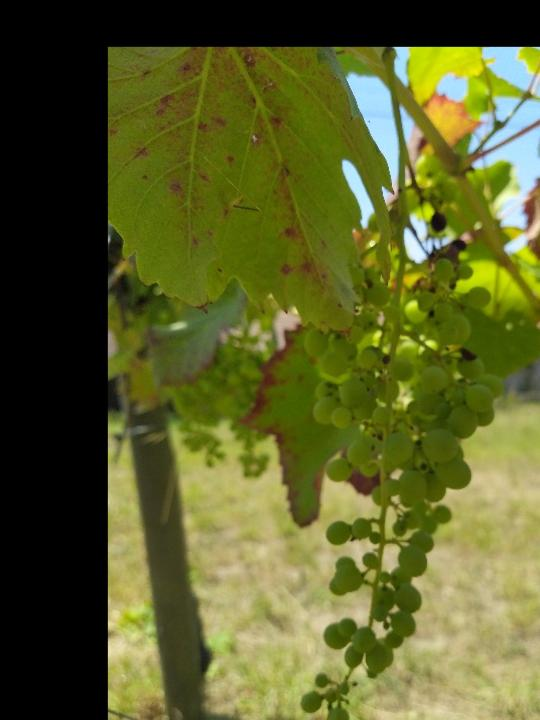grape: (301, 254, 503, 720)
